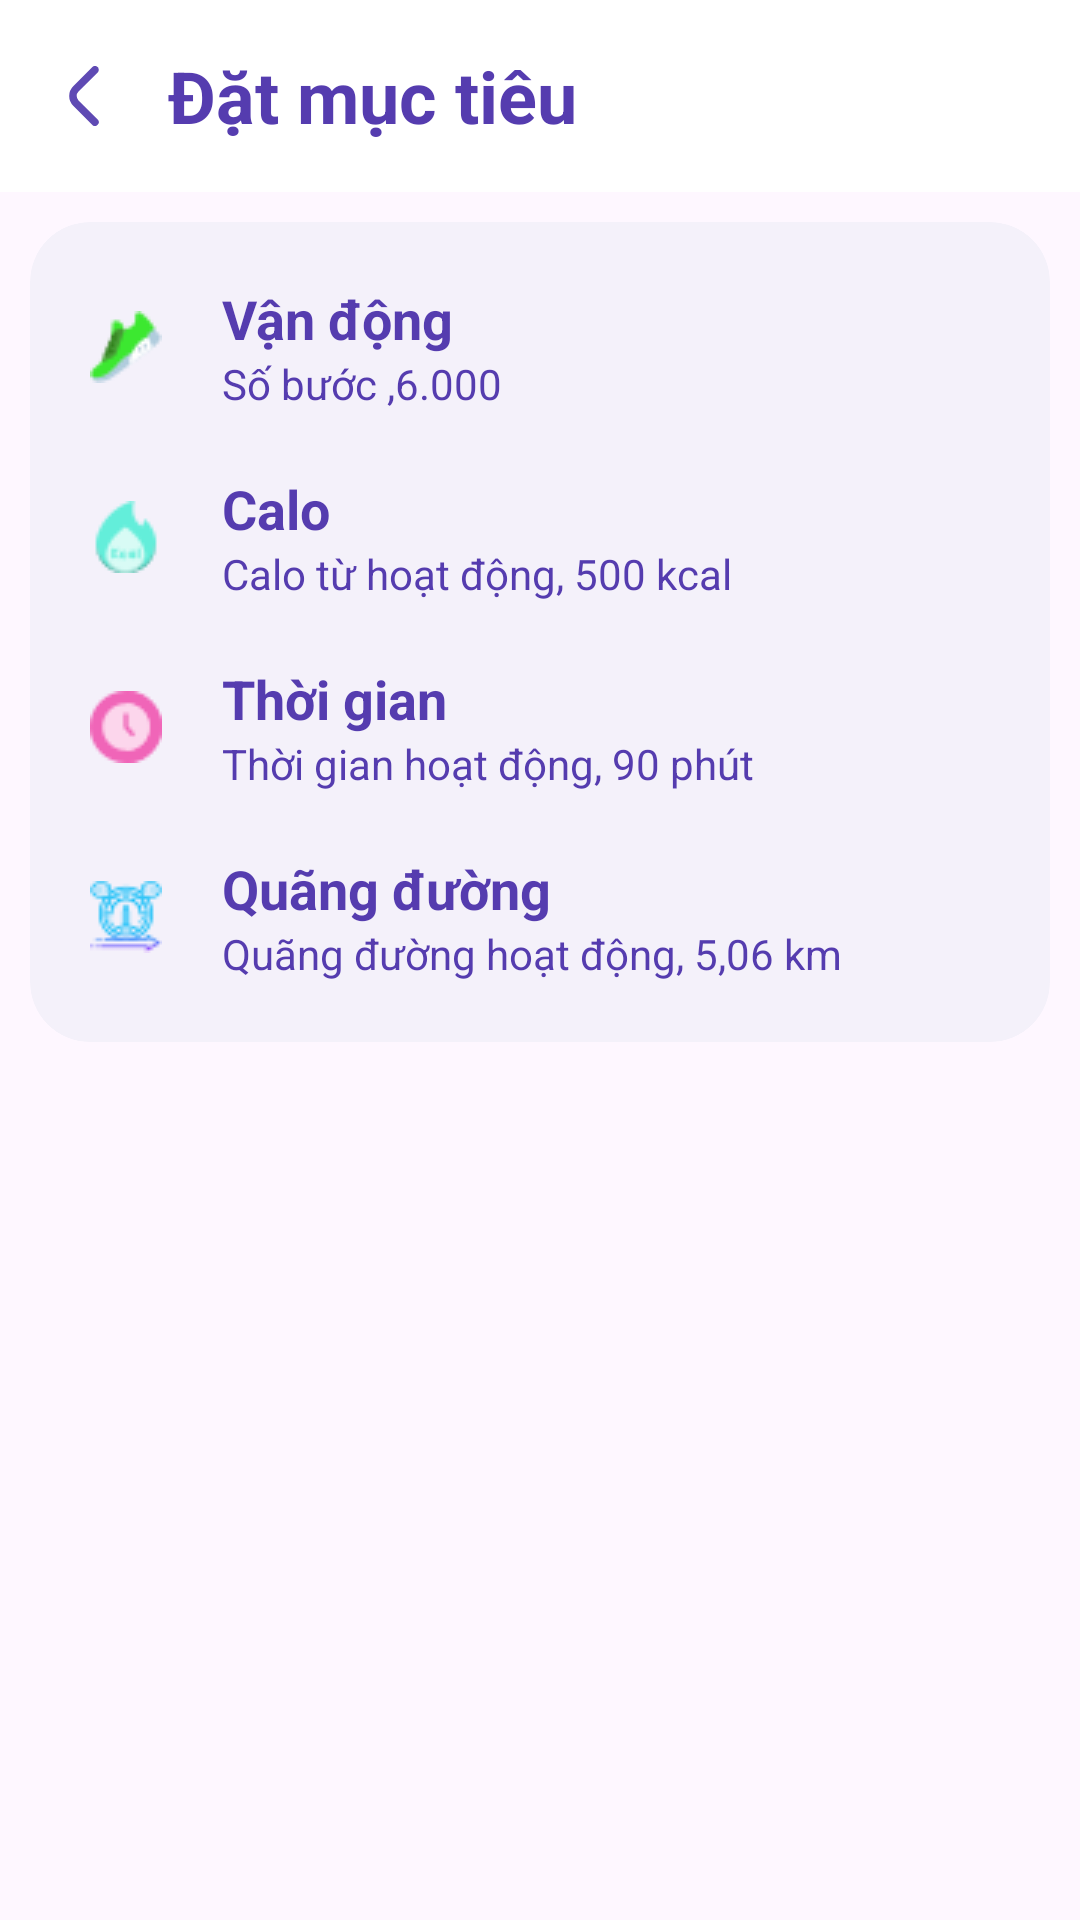

Named icons in this screenshot (1080 x 1920) and their centers, (x,y):
sneakers: (126,347)
wall clock: (126,727)
